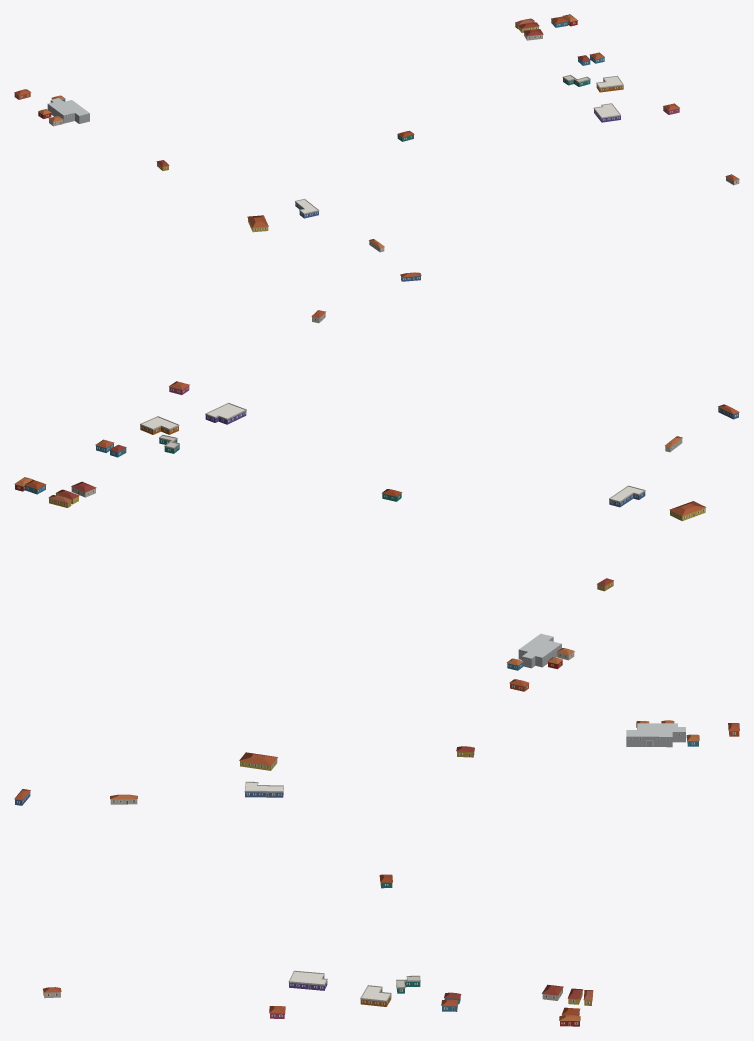
Rendered from msb_oranjestad_m11_m1.glb.
3 renders of one model, top to bottom at view 1: azimuth 30°, elevation 25°; view 2: azimuth 150°, elevation 25°; view 3: azimuth 270°, elevation 25°, orthographic. The views are drawn at different scales.
Visible parts, largest first — view 1: msb_oranjestad_m11_m1_lod0; view 2: msb_oranjestad_m11_m1_lod0; view 3: msb_oranjestad_m11_m1_lod0.
Boxes of the visible parts, x1,y1,x2,y2 form: msb_oranjestad_m11_m1_lod0: (14, 14, 739, 281); msb_oranjestad_m11_m1_lod0: (14, 310, 739, 691); msb_oranjestad_m11_m1_lod0: (14, 720, 739, 1026).
Size of what is drawn, in the model's own units: 399 by 11.67 by 402.
Materials: 3 (1 with a texture image).
